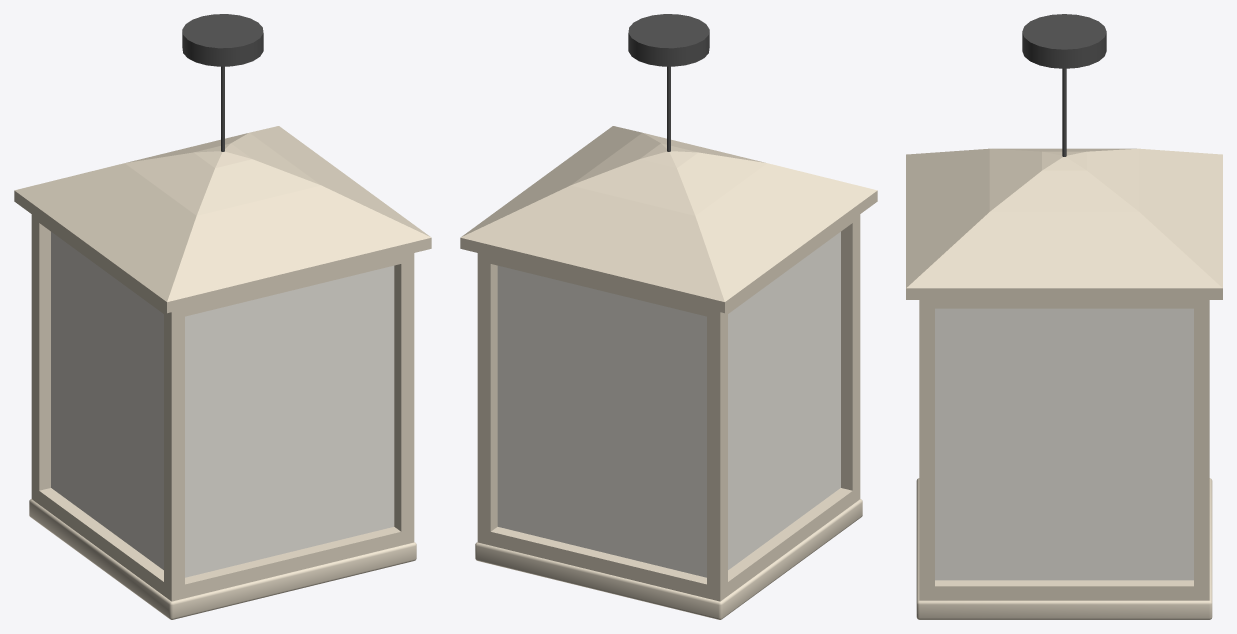
Rendered from sg_lantern_square.glb.
The picture shows the model from 3 angles, left to right: view 1: azimuth 30°, elevation 25°; view 2: azimuth 150°, elevation 25°; view 3: azimuth 270°, elevation 25°; orthographic projection. The views are drawn at different scales.
Visible parts, largest first — view 1: paper, cap, frame, base, canopy; view 2: paper, cap, frame, base, canopy; view 3: paper, cap, frame, base, canopy, cord.
Boxes of the visible parts, bbox=[...] form: paper: bbox=[51, 232, 394, 577]; cap: bbox=[14, 126, 431, 313]; frame: bbox=[31, 214, 414, 601]; base: bbox=[29, 499, 416, 619]; canopy: bbox=[182, 14, 263, 66]; paper: bbox=[497, 232, 840, 577]; cap: bbox=[460, 126, 877, 313]; frame: bbox=[477, 214, 860, 601]; base: bbox=[475, 499, 862, 619]; canopy: bbox=[628, 14, 709, 66]; paper: bbox=[935, 308, 1193, 580]; cap: bbox=[906, 148, 1222, 299]; frame: bbox=[919, 300, 1209, 600]; base: bbox=[916, 478, 1212, 619]; canopy: bbox=[1022, 14, 1106, 68]; cord: bbox=[1062, 68, 1066, 156].
Size of the model in its own units: 0.2998 by 0.55 by 0.2998.
